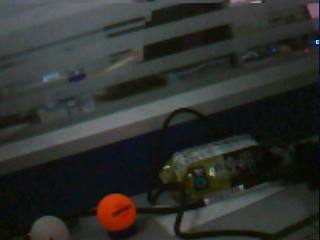oball: (97, 194, 136, 231)
